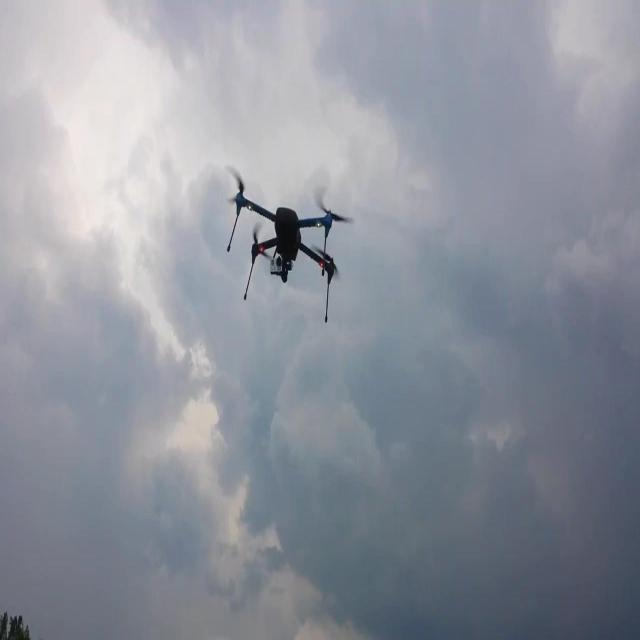drone: (227, 174, 357, 326)
